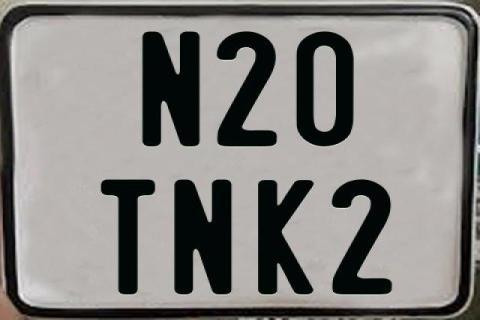0: (332, 178, 397, 294), (216, 31, 280, 146), (295, 29, 357, 145)
K: (258, 180, 318, 296)
N: (173, 178, 235, 294), (142, 31, 200, 151)
T: (99, 178, 159, 296)
